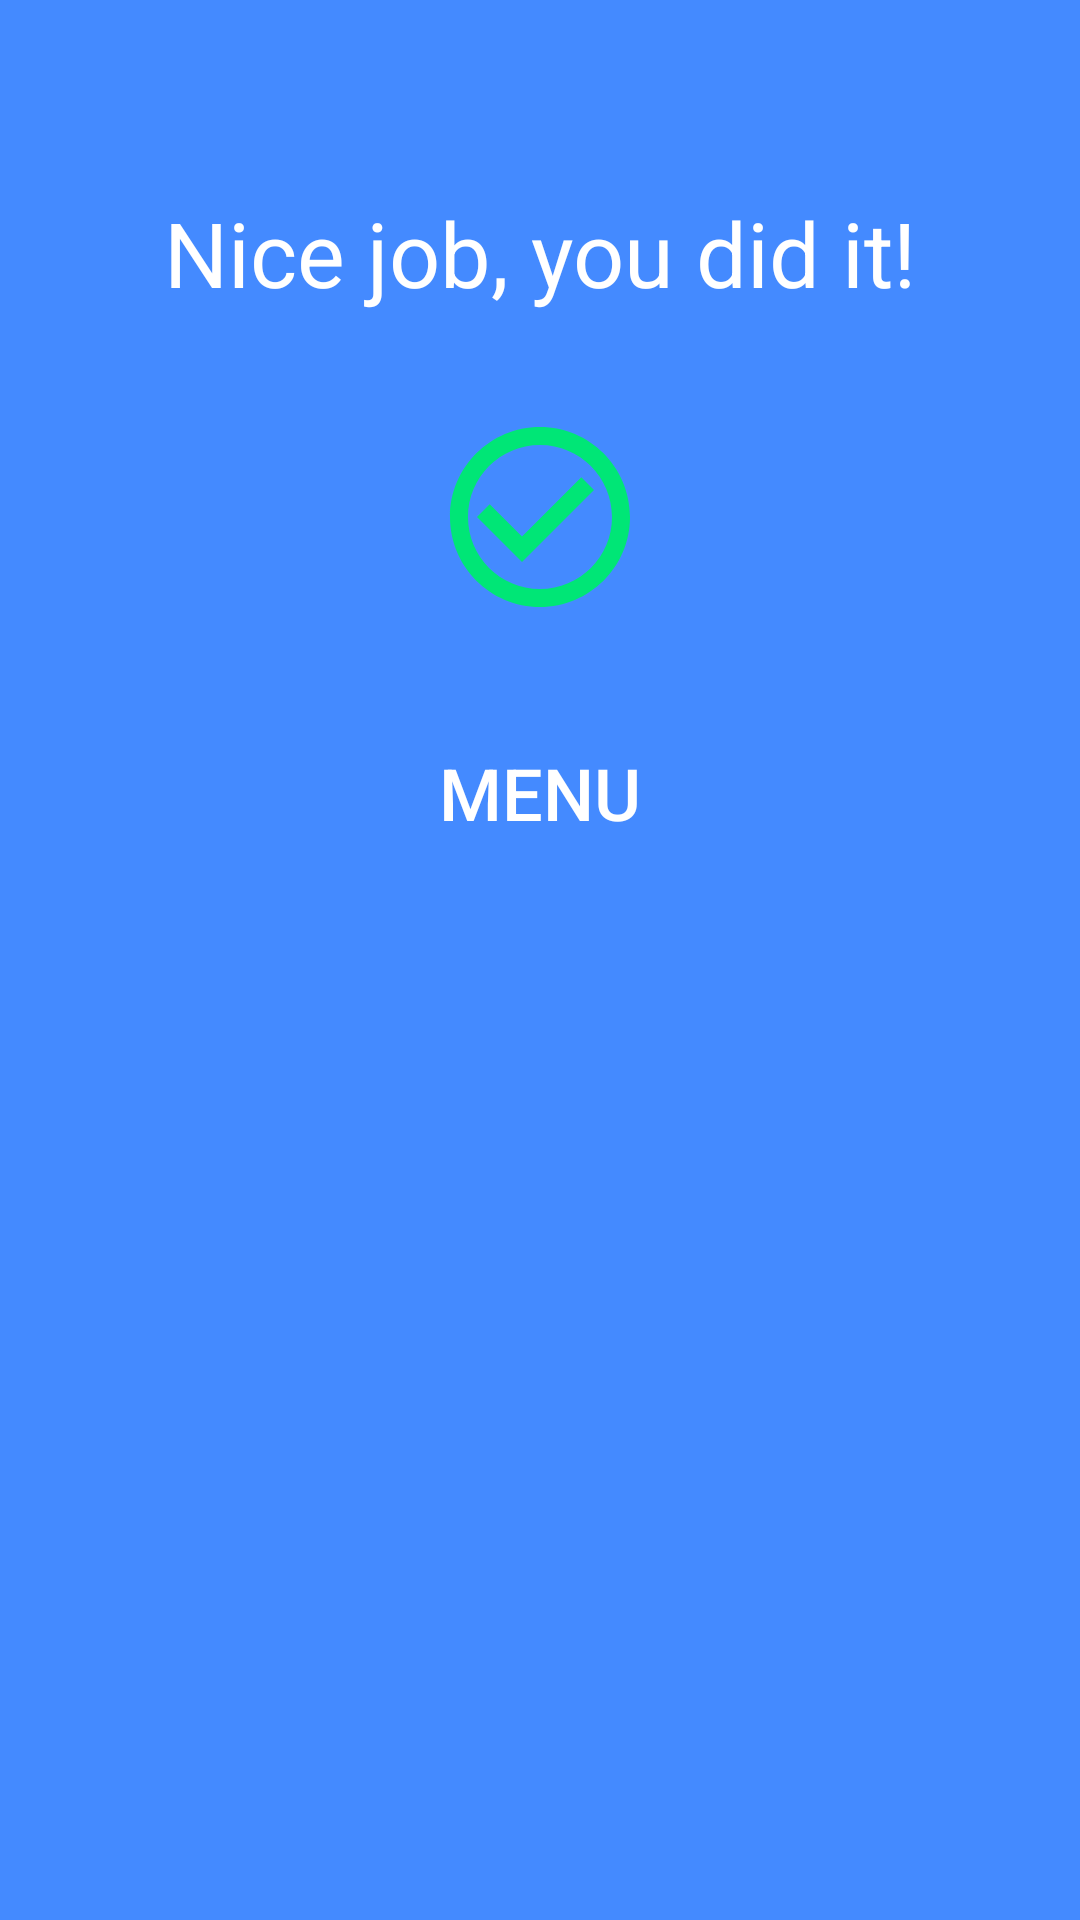

Icons on this 1080×1920 Android screen, each with the point to tap as (x=x, y=y):
Check: (x=540, y=517)
